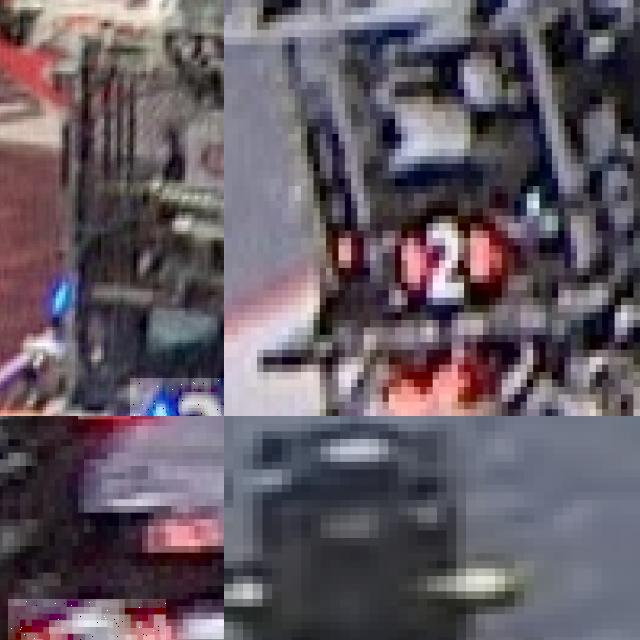B2: (130, 378, 224, 416)
R2: (373, 208, 511, 312)
R3: (8, 599, 165, 640)
